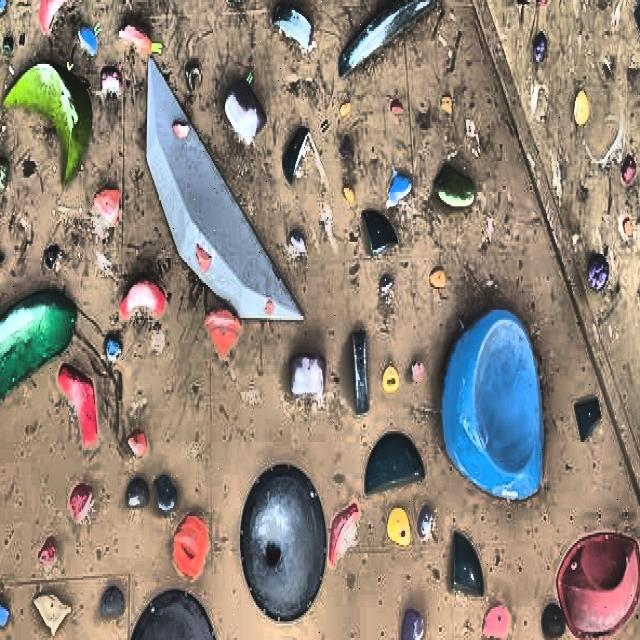Hold: (57, 365, 96, 446), (224, 78, 266, 142), (173, 512, 208, 580), (329, 502, 359, 568), (204, 306, 241, 359), (120, 275, 165, 318), (434, 163, 476, 209), (272, 2, 312, 50), (34, 590, 70, 636), (362, 209, 397, 256), (290, 353, 324, 401), (351, 330, 370, 415), (282, 126, 309, 182), (93, 184, 122, 227), (38, 0, 75, 33), (119, 19, 155, 52), (482, 603, 510, 640), (386, 506, 411, 547), (98, 584, 125, 619), (154, 475, 177, 516), (68, 483, 92, 522), (388, 169, 412, 206), (542, 603, 565, 640), (587, 254, 610, 291), (125, 477, 149, 510), (400, 609, 425, 640), (98, 66, 122, 95), (417, 504, 435, 541), (126, 427, 147, 458), (573, 89, 590, 126), (37, 537, 56, 570), (286, 229, 307, 258), (77, 25, 96, 56), (194, 242, 213, 273), (104, 332, 122, 363), (382, 363, 401, 392), (184, 62, 202, 91), (533, 31, 548, 64), (42, 244, 61, 270), (429, 266, 448, 291), (339, 134, 354, 161), (171, 120, 189, 140), (0, 155, 9, 194), (411, 359, 425, 382), (0, 33, 13, 56), (388, 97, 403, 116), (261, 299, 276, 318), (342, 182, 356, 202), (440, 93, 452, 116), (0, 598, 9, 628), (338, 99, 351, 116), (0, 0, 6, 12), (537, 0, 549, 6), (228, 0, 242, 4)
Macro: (441, 310, 543, 500), (240, 465, 326, 623), (3, 62, 91, 184), (558, 533, 640, 640), (0, 289, 77, 402), (338, 0, 437, 76), (132, 590, 214, 640), (365, 431, 424, 491)
Unknown: (453, 533, 483, 597), (575, 398, 602, 442), (622, 155, 638, 186), (619, 217, 636, 239)
Volume: (147, 54, 304, 317)
start_tag: (152, 48, 160, 53), (153, 43, 161, 48)
